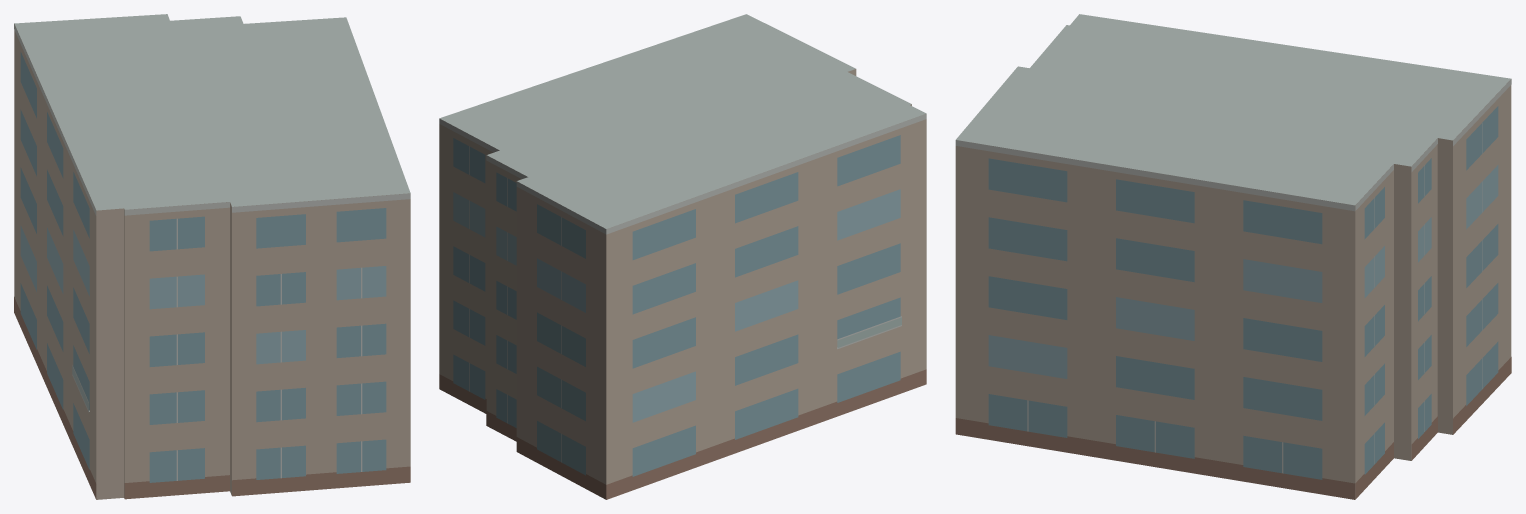
The model's file is survey-upis-32668282.glb.
3 views of the same model, side by side, from view 1: azimuth 30°, elevation 25°; view 2: azimuth 150°, elevation 25°; view 3: azimuth 270°, elevation 25° (orthographic). The views are drawn at different scales.
Parts seen in each view (by area): view 1: survey-upis-32668282.tmp; view 2: survey-upis-32668282.tmp; view 3: survey-upis-32668282.tmp.
Part boxes in pixels (<box>): survey-upis-32668282.tmp: <box>14,14,410,499</box>; survey-upis-32668282.tmp: <box>439,14,926,499</box>; survey-upis-32668282.tmp: <box>955,14,1511,499</box>.
Size of the model in its own units: 16.89 by 12.11 by 20.72.
